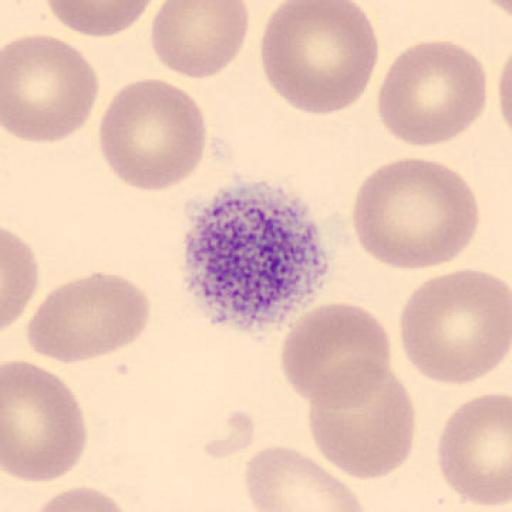Platelet: (180, 179, 332, 332)
RBC: (350, 155, 482, 271), (304, 355, 417, 481), (259, 0, 380, 116), (398, 266, 512, 386), (97, 76, 207, 193), (377, 38, 489, 148), (280, 300, 393, 406), (26, 271, 152, 365), (1, 33, 100, 146), (2, 360, 89, 484), (436, 392, 512, 508), (243, 443, 370, 512), (150, 0, 251, 80), (44, 0, 157, 38), (1, 225, 39, 332), (29, 484, 136, 512), (496, 53, 512, 130), (482, 0, 512, 17)
